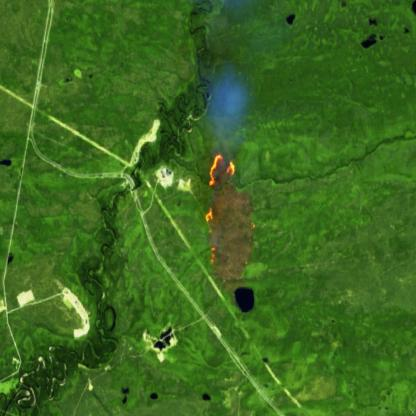fire: (202, 153, 239, 270)
